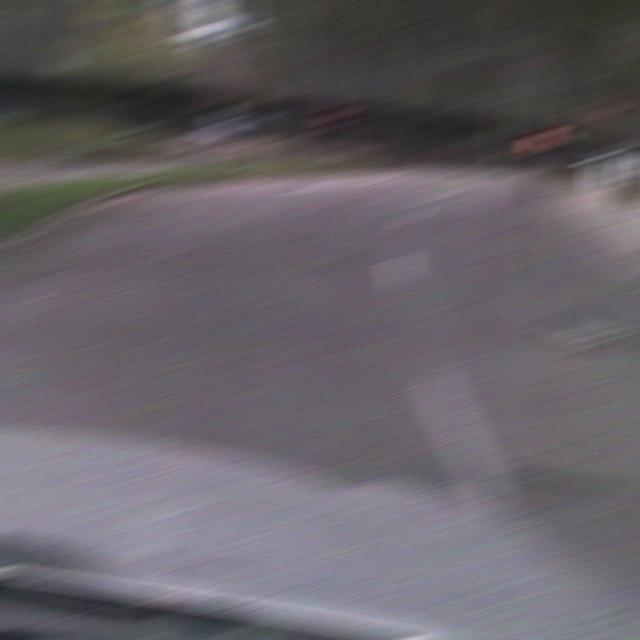stop_sign: (588, 96, 622, 120), (316, 106, 348, 126)
